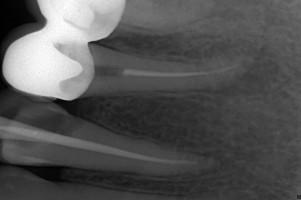Furcation Involvement: (185, 39, 279, 95)
